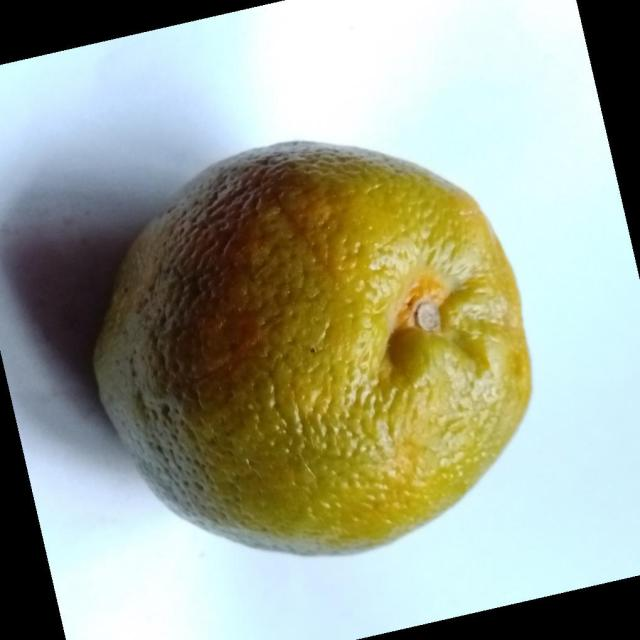fresh orange: (91, 138, 533, 557)
